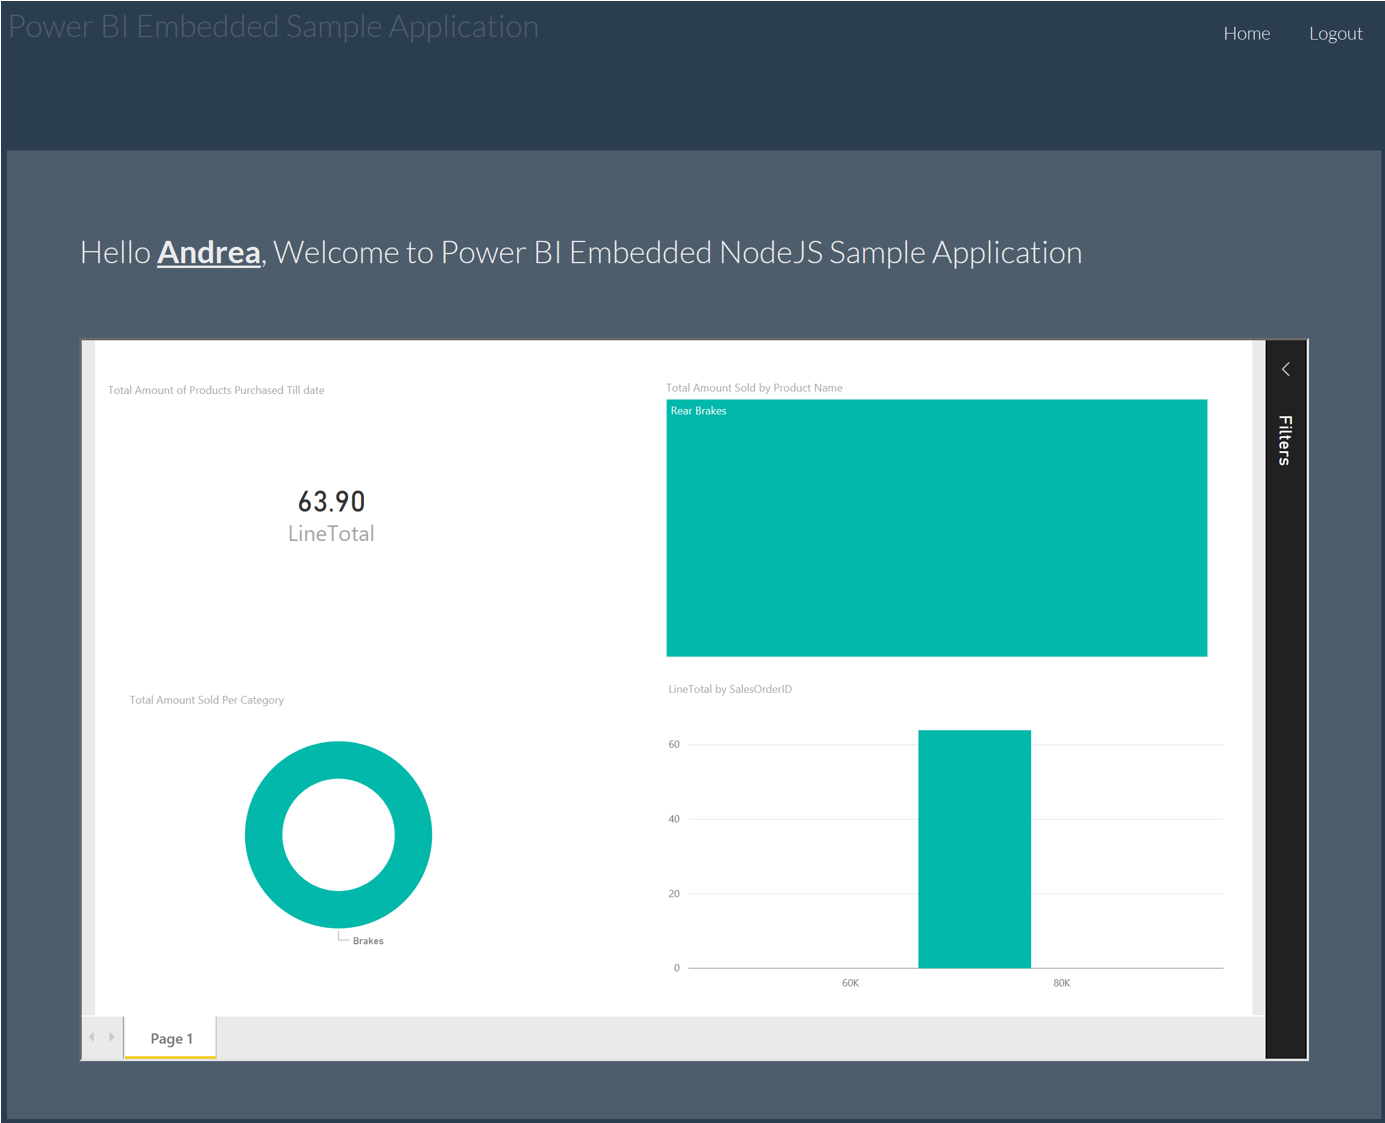

The dashboard page shown, as its layout file describes it:
{"tool":"powerbi","page":{"name":"Page 1","canvas":[1280,720],"ordinal":0},"visuals":[{"type":"clusteredColumnChart","fields":{"Y":["Sum(SalesLT SalesOrderDetail.LineTotal)"],"Category":["SalesLT SalesOrderDetail.SalesOrderID"]},"box":[628.8,350.3,623.9,345.4],"z":2},{"type":"donutChart","fields":{"Category":["SalesLT ProductCategory.Name"],"Y":["CountNonNull(SalesLT SalesOrderDetail.ProductID)"]},"box":[32.8,363,473.1,300.4],"z":3},{"type":"treemap","fields":{"Group":["SalesLT Product.Name"],"Values":["Sum(SalesLT SalesOrderDetail.LineTotal)"]},"box":[627,17,608.7,311.4],"z":4},{"type":"card","fields":{"Values":["Sum(SalesLT SalesOrderDetail.LineTotal)"]},"box":[9.7,20.1,503.5,266.4],"z":4}]}

Visuals, with their boxes on the page's 1280x720 design canvas (x1, y1, x2, y2). These are canvas units, not pixel positions in the 1385x1123 screenshot, which may show the page scaled, cropped or inside an application window:
clusteredColumnChart - Sum(SalesLT SalesOrderDetail.LineTotal) x SalesLT SalesOrderDetail.SalesOrderID: [left=629, top=350, right=1253, bottom=696]
donutChart - SalesLT ProductCategory.Name x CountNonNull(SalesLT SalesOrderDetail.ProductID): [left=33, top=363, right=506, bottom=663]
treemap - SalesLT Product.Name x Sum(SalesLT SalesOrderDetail.LineTotal): [left=627, top=17, right=1236, bottom=328]
card - Sum(SalesLT SalesOrderDetail.LineTotal): [left=10, top=20, right=513, bottom=286]
